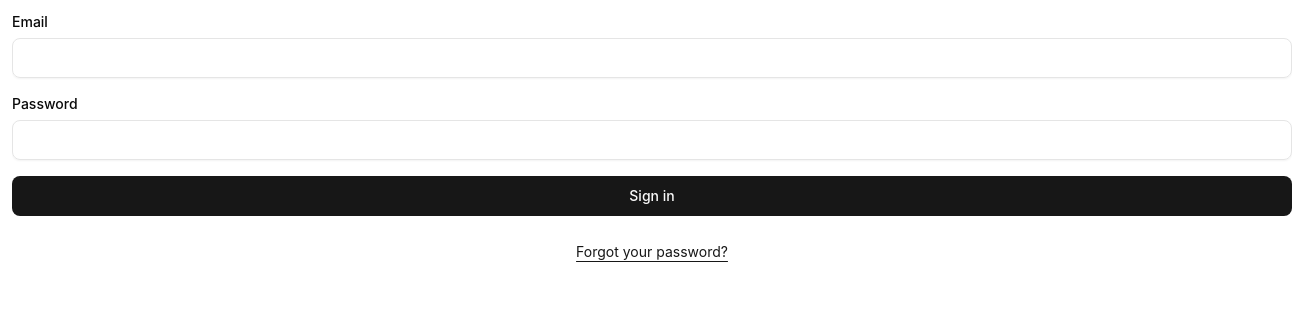
Test: LoginForm › shows the generic server error, clears the password and stays on the page
This screenshot has width=1304, height=333.
Type "ana@example.test" into the field labelled "Email" at (652,58), box [12,38,1292,78]
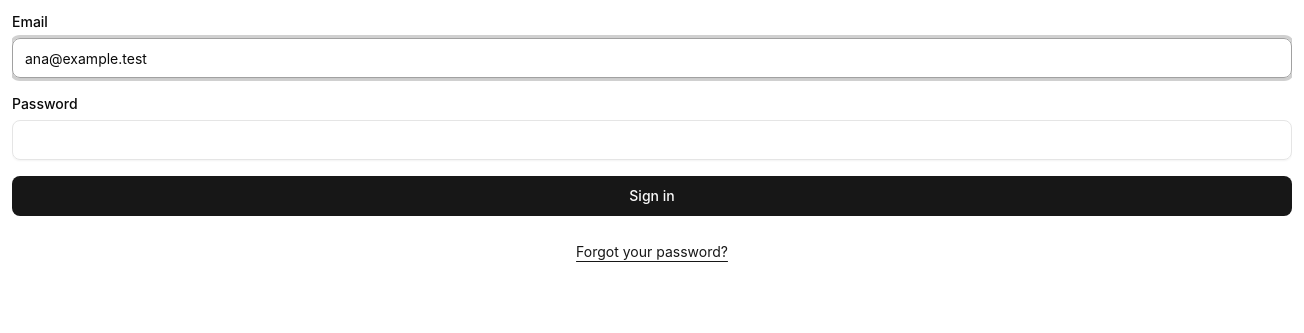
Type "wrong" into the password field labelled "Password" at (652,140), box [12,120,1292,160]
Then press Enter
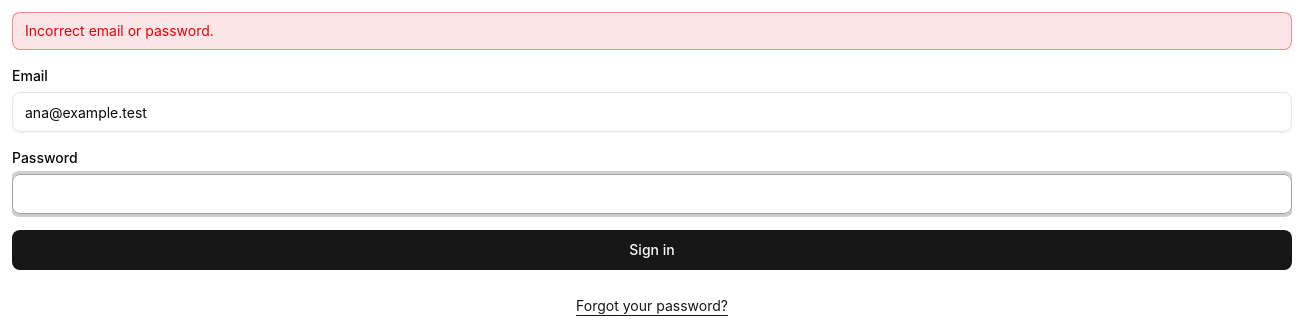
Expected: the password field labelled "Password" is empty, [12,174,1292,214]
Result: the message reads "Incorrect email or password." at [25,22,214,39]
